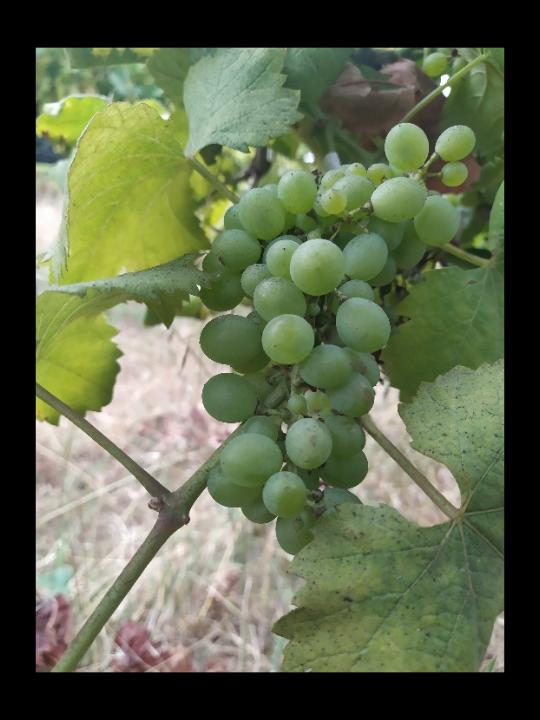grape: (195, 121, 478, 558)
